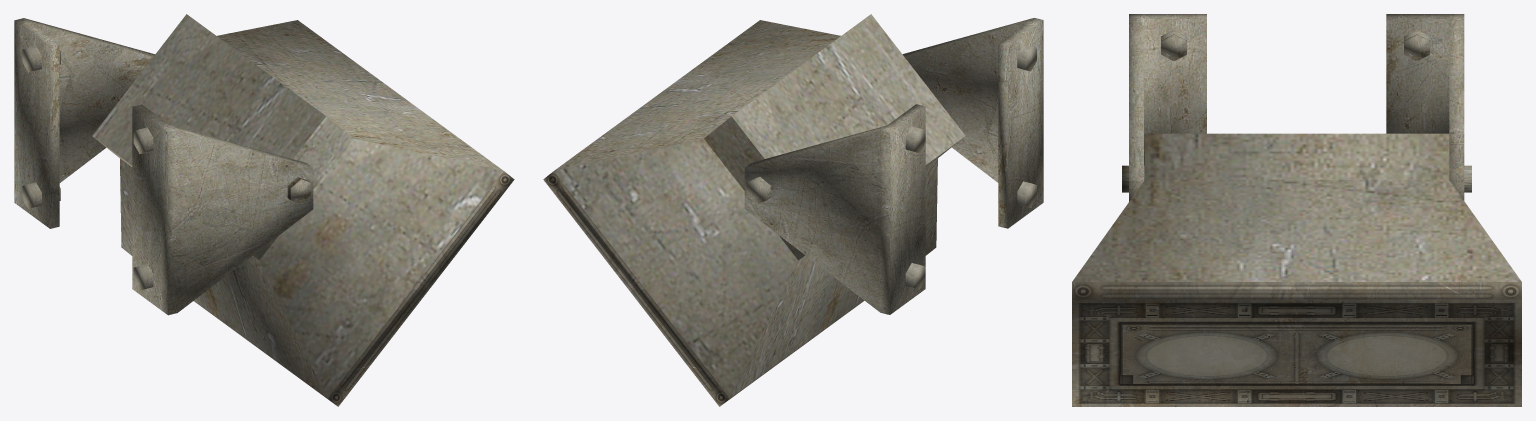
The model's file is lamp_wall.fbx.
3 views of the same model, side by side, from view 1: azimuth 30°, elevation 25°; view 2: azimuth 150°, elevation 25°; view 3: azimuth 270°, elevation 25° (orthographic). The views are drawn at different scales.
Parts seen in each view (by area): view 1: Mesh; view 2: Mesh; view 3: Mesh.
Part boxes in pixels (x1=…): Mesh: x1=14, y1=14, x2=514, y2=406; Mesh: x1=543, y1=14, x2=1043, y2=406; Mesh: x1=1072, y1=14, x2=1521, y2=406.
Bounding box in the file's own units: 55.09 × 46.54 × 60.
